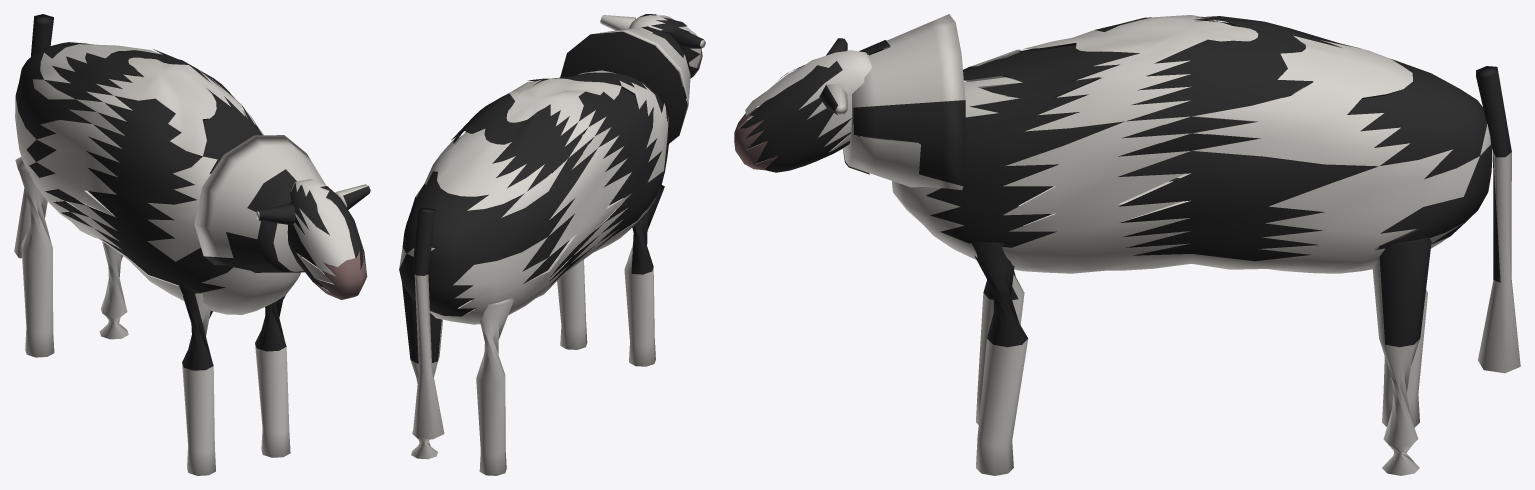
Rendered from animal.farm.cow_stand_0.glb.
3 views of the same model, side by side, from view 1: azimuth 30°, elevation 25°; view 2: azimuth 150°, elevation 25°; view 3: azimuth 270°, elevation 25° (orthographic). The views are drawn at different scales.
Parts seen in each view (by area): view 1: main__fabric_ccc, main__fabric_222, main__fabric_ccb, main__fabric_766, main__fabric_bbb; view 2: main__fabric_222, main__fabric_ccc, main__fabric_ccb, main__fabric_bbb; view 3: main__fabric_222, main__fabric_ccc, main__fabric_ccb, main__fabric_bbb, main__fabric_766.
Part boxes in pixels (left/top/right/bottom): main__fabric_ccc: left=15, top=44, right=355, bottom=475; main__fabric_222: left=15, top=14, right=370, bottom=370; main__fabric_ccb: left=15, top=135, right=368, bottom=357; main__fabric_766: left=314, top=248, right=367, bottom=299; main__fabric_bbb: left=14, top=188, right=259, bottom=258; main__fabric_222: left=399, top=14, right=703, bottom=363; main__fabric_ccc: left=399, top=15, right=701, bottom=459; main__fabric_ccb: left=471, top=15, right=690, bottom=475; main__fabric_bbb: left=413, top=40, right=705, bottom=439; main__fabric_222: left=740, top=16, right=1511, bottom=347; main__fabric_ccc: left=745, top=15, right=1490, bottom=475; main__fabric_ccb: left=826, top=14, right=1427, bottom=427; main__fabric_bbb: left=1478, top=152, right=1520, bottom=373; main__fabric_766: left=734, top=107, right=777, bottom=170.
Size of the model in its own units: 0.6994 by 1.47 by 2.48.
